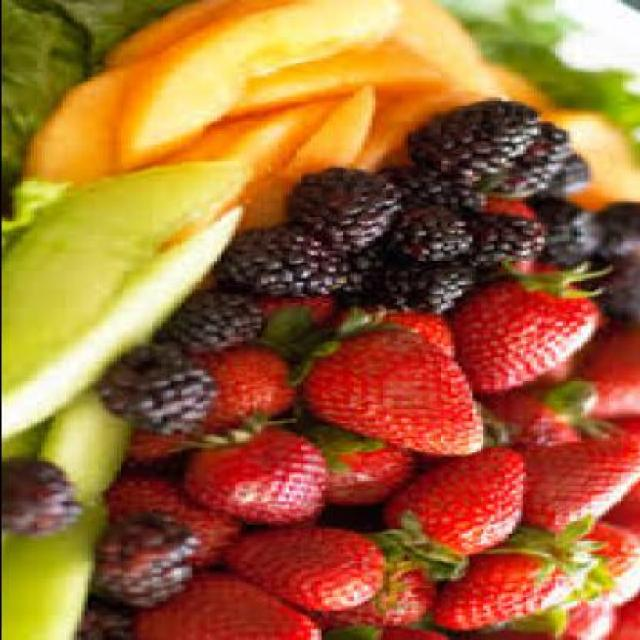BIODEGRADABLE: (20, 0, 511, 234), (4, 154, 248, 391), (4, 203, 248, 437), (115, 0, 407, 169), (270, 308, 488, 452), (474, 0, 638, 163), (453, 261, 607, 394), (241, 84, 381, 228), (212, 36, 446, 122), (435, 513, 608, 629), (129, 343, 302, 457), (22, 60, 144, 214), (155, 97, 342, 192), (4, 0, 90, 206), (187, 414, 335, 524), (4, 491, 114, 638), (219, 529, 399, 606), (522, 417, 638, 532), (133, 572, 327, 638), (115, 472, 248, 566), (262, 298, 400, 382), (288, 418, 424, 502), (100, 0, 266, 68), (97, 343, 220, 432), (35, 392, 137, 494), (90, 516, 201, 604), (488, 376, 626, 446), (417, 97, 540, 174), (309, 558, 449, 624), (223, 227, 355, 291), (294, 167, 392, 253), (554, 108, 638, 206), (43, 1, 191, 56), (460, 592, 622, 638), (3, 455, 86, 536), (367, 253, 482, 309), (348, 307, 464, 362), (488, 122, 572, 196), (578, 318, 638, 418), (159, 292, 266, 348), (273, 290, 370, 345), (578, 520, 638, 605), (489, 199, 557, 272), (597, 414, 638, 529), (388, 208, 478, 255), (536, 200, 601, 262), (396, 166, 490, 208), (471, 212, 546, 260), (592, 260, 638, 326), (532, 150, 594, 198), (592, 198, 638, 262), (504, 56, 553, 112), (521, 357, 582, 400), (344, 244, 384, 305), (4, 416, 58, 459), (320, 622, 460, 638), (75, 605, 140, 638), (600, 592, 638, 640)
